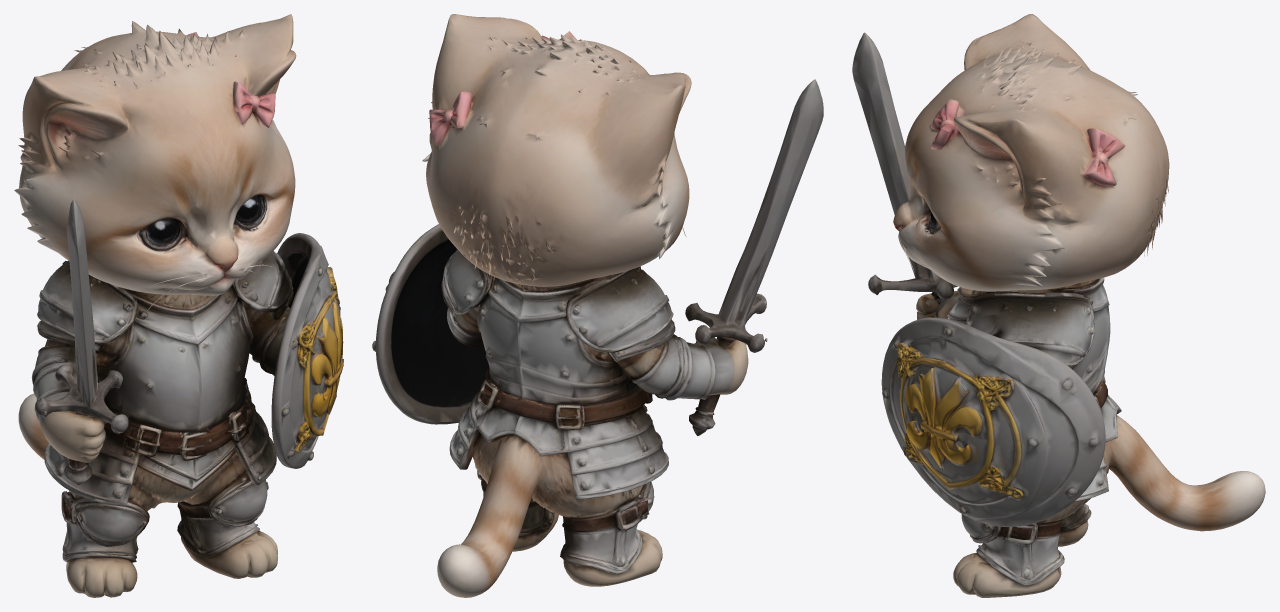
The model's file is cat2.glb.
3 renders of one model, left to right at view 1: azimuth 30°, elevation 25°; view 2: azimuth 150°, elevation 25°; view 3: azimuth 270°, elevation 25°, orthographic. The views are drawn at different scales.
Parts seen in each view (by area): view 1: cat-knight-v2; view 2: cat-knight-v2; view 3: cat-knight-v2.
Boxes of the visible parts, x1,y1,x2,y2 form: cat-knight-v2: (14, 14, 343, 597); cat-knight-v2: (372, 14, 823, 597); cat-knight-v2: (852, 14, 1265, 597).
Bounding box in the file's own units: 0.6646 × 0.966 × 0.7178.
1 material, 1 textured.
